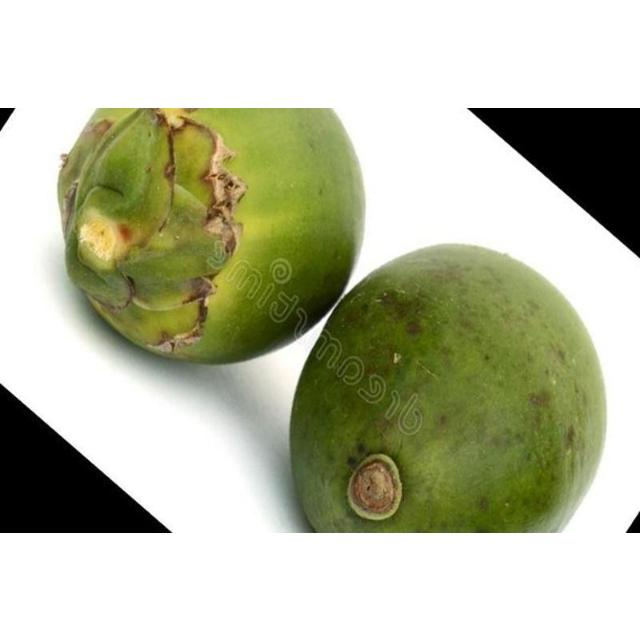good: (288, 242, 610, 532), (54, 107, 366, 366)
